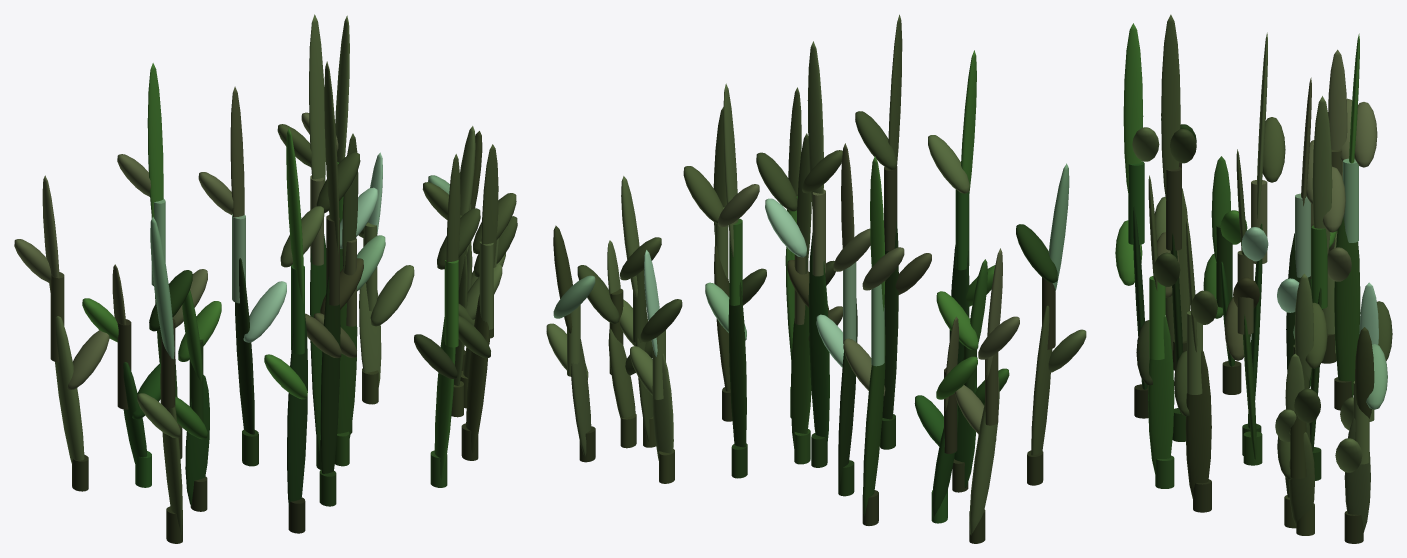
File: CMU3DRMCBushi3.glb
The picture shows the model from 3 angles, left to right: view 1: azimuth 30°, elevation 25°; view 2: azimuth 150°, elevation 25°; view 3: azimuth 270°, elevation 25°; orthographic projection. The views are drawn at different scales.
Parts seen in each view (by area): view 1: reed 7 lower blade, reed 5 lower blade, reed 8 tapered tip, reed 0 lower blade, reed 6 lower blade, reed 4 tapered tip, reed 1 tapered tip, reed 5 tapered tip, reed 13 lower blade, reed 7 tapered tip, reed 8 lower blade, reed 11 lower blade (+56 smaller); view 2: reed 8 lower blade, reed 10 lower blade, reed 9 lower blade, reed 4 lower blade, reed 0 lower blade, reed 7 lower blade, reed 1 lower blade, reed 8 tapered tip, reed 6 lower blade, reed 15 lower blade, reed 12 lower blade, reed 4 tapered tip (+56 smaller); view 3: reed 4 lower blade, reed 11 lower blade, reed 13 lower blade, reed 7 tapered tip, reed 5 tapered tip, reed 10 tapered tip, reed 0 tapered tip, reed 14 tapered tip, reed 16 lower blade, reed 16 tapered tip, reed 1 lower blade, reed 15 lower blade (+64 smaller).
Part boxes in pixels (x1=…): reed 7 lower blade: x1=320, y1=275, x2=340, y2=473; reed 5 lower blade: x1=287, y1=315, x2=307, y2=509; reed 8 tapered tip: x1=309, y1=14, x2=325, y2=183; reed 0 lower blade: x1=55, y1=316, x2=84, y2=463; reed 6 lower blade: x1=235, y1=258, x2=254, y2=434; reed 4 tapered tip: x1=147, y1=63, x2=163, y2=217; reed 1 tapered tip: x1=150, y1=217, x2=174, y2=359; reed 5 tapered tip: x1=286, y1=128, x2=304, y2=303; reed 13 lower blade: x1=466, y1=294, x2=489, y2=453; reed 7 tapered tip: x1=324, y1=61, x2=339, y2=253; reed 8 lower blade: x1=310, y1=234, x2=326, y2=454; reed 11 lower blade: x1=434, y1=317, x2=455, y2=479; reed 8 lower blade: x1=808, y1=233, x2=829, y2=450; reed 10 lower blade: x1=728, y1=282, x2=746, y2=447; reed 9 lower blade: x1=791, y1=305, x2=811, y2=448; reed 4 lower blade: x1=863, y1=320, x2=885, y2=516; reed 0 lower blade: x1=969, y1=377, x2=999, y2=535; reed 7 lower blade: x1=882, y1=221, x2=898, y2=419; reed 1 lower blade: x1=1031, y1=305, x2=1052, y2=455; reed 8 tapered tip: x1=807, y1=41, x2=823, y2=208; reed 6 lower blade: x1=838, y1=298, x2=857, y2=486; reed 15 lower blade: x1=608, y1=328, x2=635, y2=417; reed 12 lower blade: x1=652, y1=354, x2=673, y2=460; reed 4 tapered tip: x1=870, y1=156, x2=885, y2=311; reed 4 lower blade: x1=1334, y1=217, x2=1360, y2=397; reed 11 lower blade: x1=1148, y1=315, x2=1174, y2=473; reed 13 lower blade: x1=1185, y1=350, x2=1211, y2=498; reed 7 tapered tip: x1=1161, y1=14, x2=1180, y2=200; reed 5 tapered tip: x1=1123, y1=23, x2=1143, y2=194; reed 10 tapered tip: x1=1312, y1=96, x2=1332, y2=255; reed 0 tapered tip: x1=1328, y1=49, x2=1347, y2=179; reed 14 tapered tip: x1=1294, y1=273, x2=1313, y2=380; reed 16 lower blade: x1=1344, y1=418, x2=1370, y2=532; reed 16 tapered tip: x1=1355, y1=327, x2=1374, y2=418; reed 1 lower blade: x1=1165, y1=188, x2=1189, y2=358; reed 15 lower blade: x1=1289, y1=432, x2=1314, y2=525.
Size of the model in its own units: 0.792 by 0.6914 by 0.4111.
